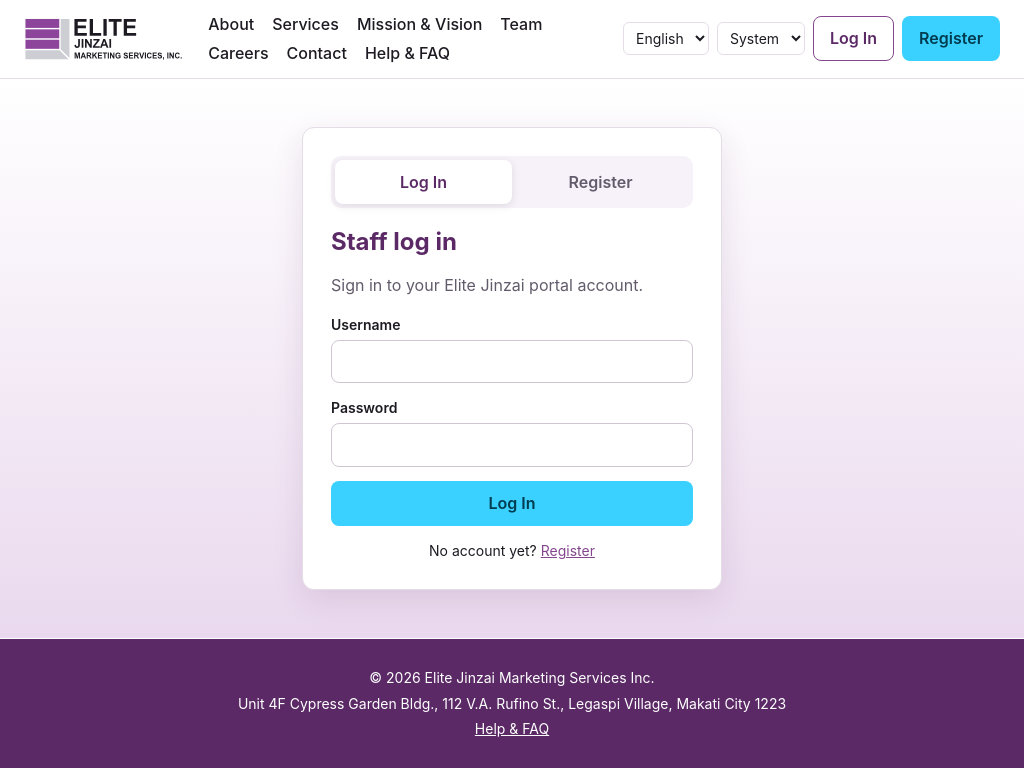
Test: rejects wrong credentials
Type "admin" into the field labelled "Username" at coordinates (512, 362), box top-left (331, 340), bottom-right (693, 383)
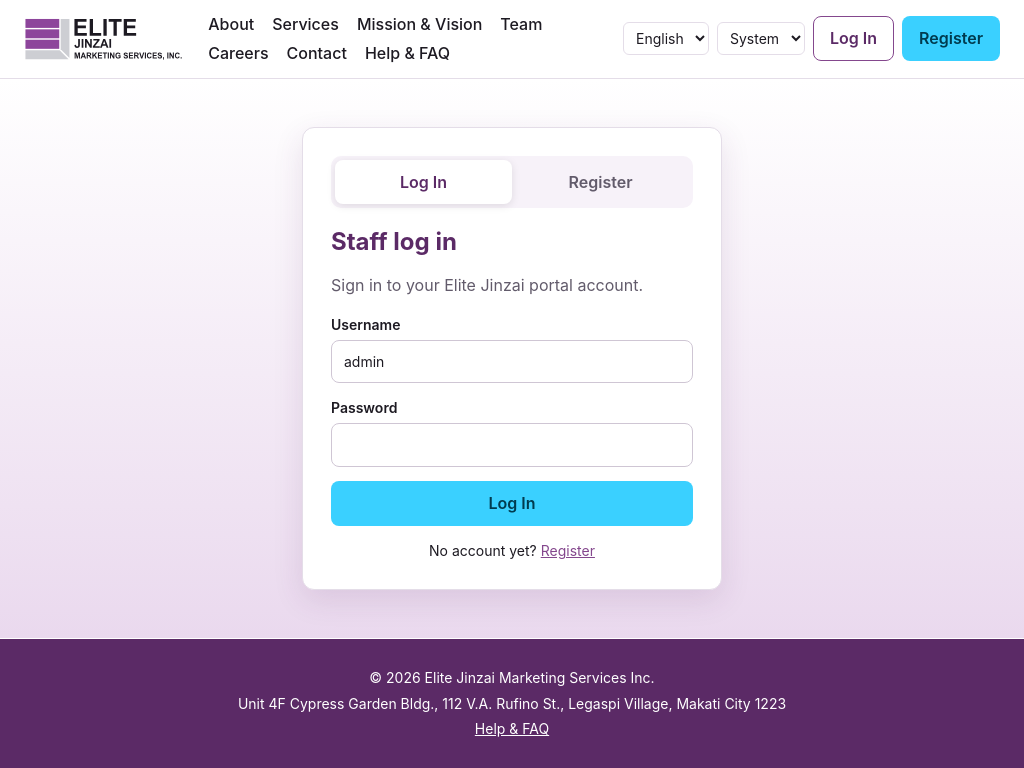
Type "definitely-wrong-password" into the password field labelled "Password" at coordinates (512, 445), box top-left (331, 423), bottom-right (693, 467)
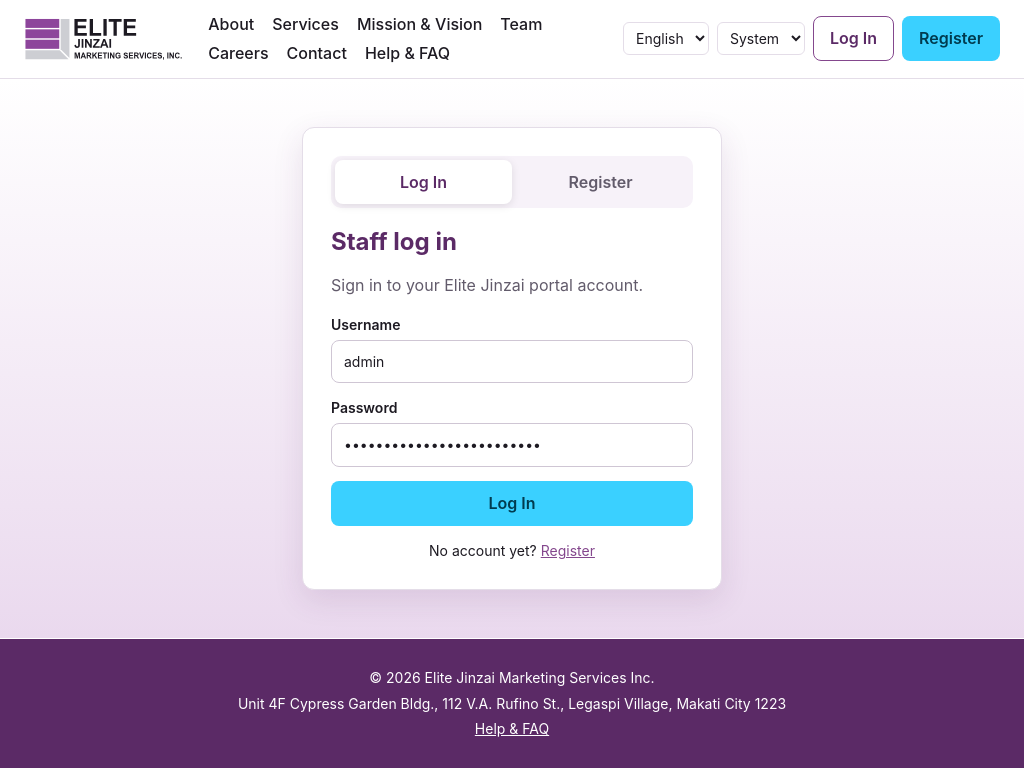
Click the button "Log In" at coordinates (512, 503), box top-left (331, 481), bottom-right (693, 526)
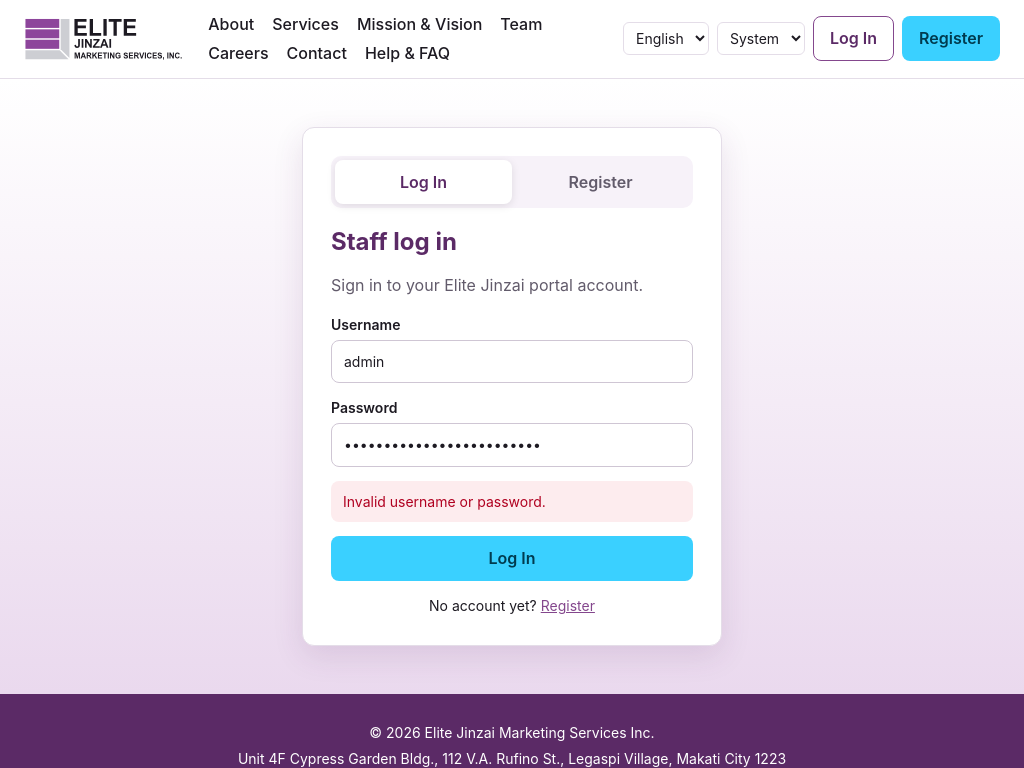
Now the message shows "Invalid", box top-left (343, 493), bottom-right (546, 510)
